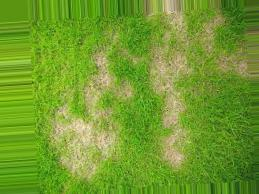patch: (49, 110, 123, 159), (162, 106, 204, 168), (147, 47, 192, 99), (93, 56, 115, 86)
